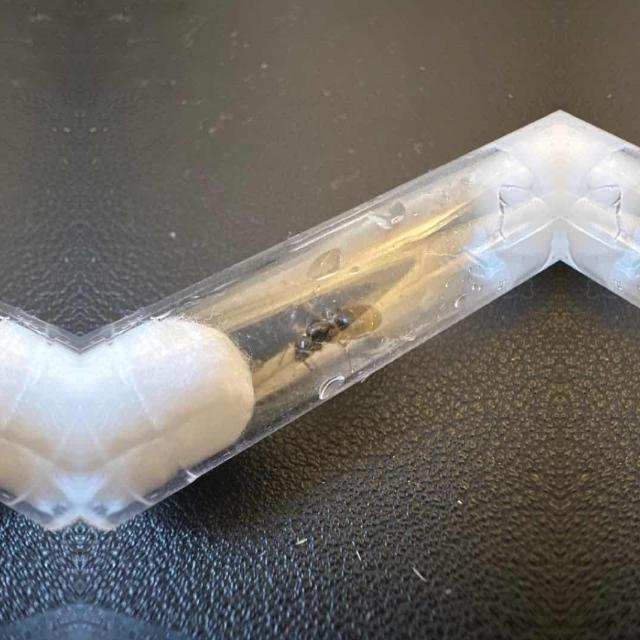Lasius: (282, 294, 402, 368)
